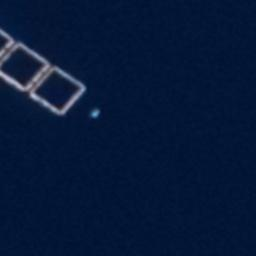square_solid: (24, 62, 93, 124), (1, 39, 55, 98), (1, 25, 17, 69)
